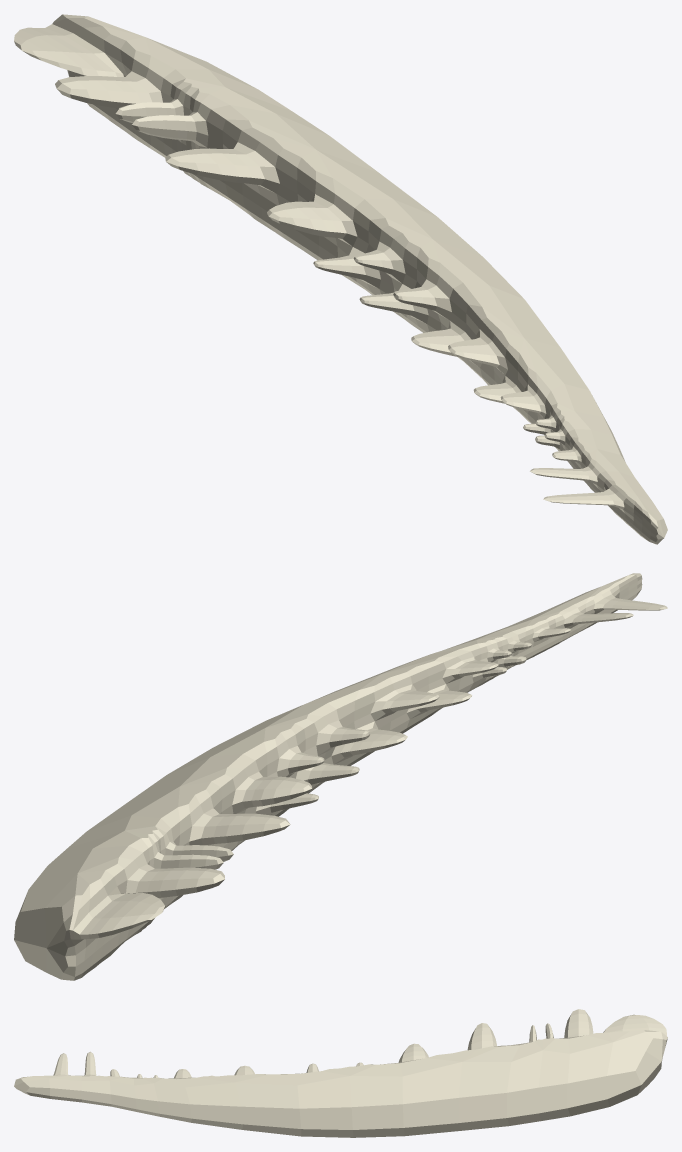
File: Os_BAS1.fbx
The picture shows the model from 3 angles, top to bottom: view 1: azimuth 30°, elevation 25°; view 2: azimuth 150°, elevation 25°; view 3: azimuth 270°, elevation 25°; orthographic projection. The views are drawn at different scales.
Parts seen in each view (by area): view 1: Os_Bas.1; view 2: Os_Bas.1; view 3: Os_Bas.1.
Part boxes in pixels (<box>): Os_Bas.1: <box>14,14,667,544</box>; Os_Bas.1: <box>14,573,667,980</box>; Os_Bas.1: <box>14,1009,667,1137</box>.
Size of the model in its own units: 695 by 389 by 3066.
